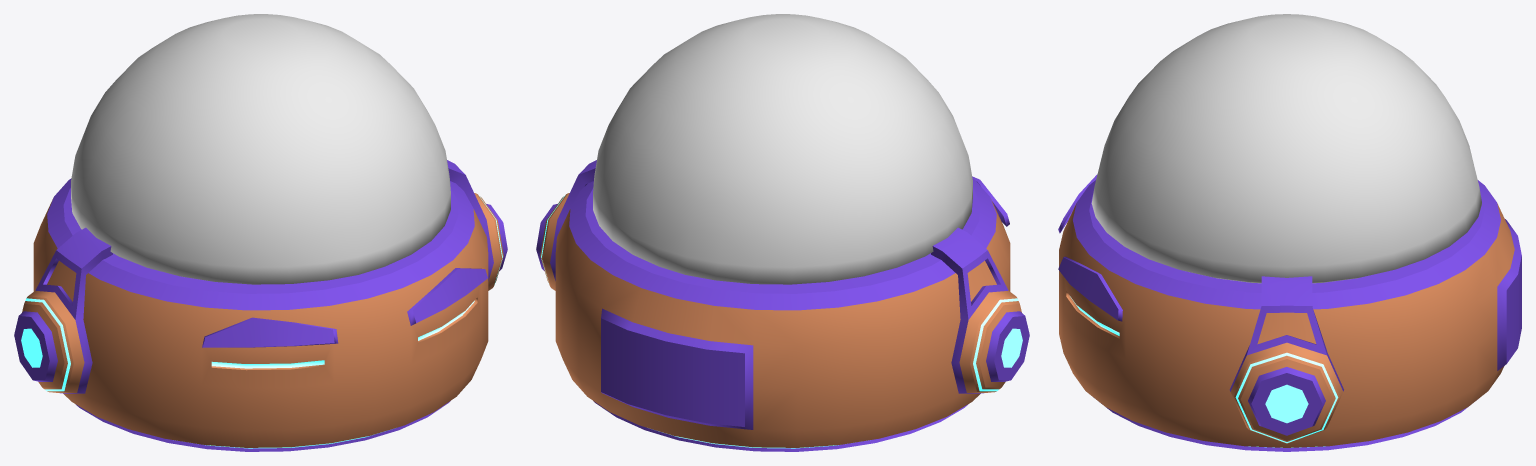
File: Stanley.fbx
3 views of the same model, side by side, from view 1: azimuth 30°, elevation 25°; view 2: azimuth 150°, elevation 25°; view 3: azimuth 270°, elevation 25° (orthographic).
Parts seen in each view (by area): view 1: Cylinder; view 2: Cylinder; view 3: Cylinder.
Boxes of the visible parts, x1,y1,x2,y2 form: Cylinder: (14, 14, 507, 451); Cylinder: (536, 14, 1029, 451); Cylinder: (1058, 14, 1521, 451).
Bounding box in the file's own units: 233 × 163 × 203.
